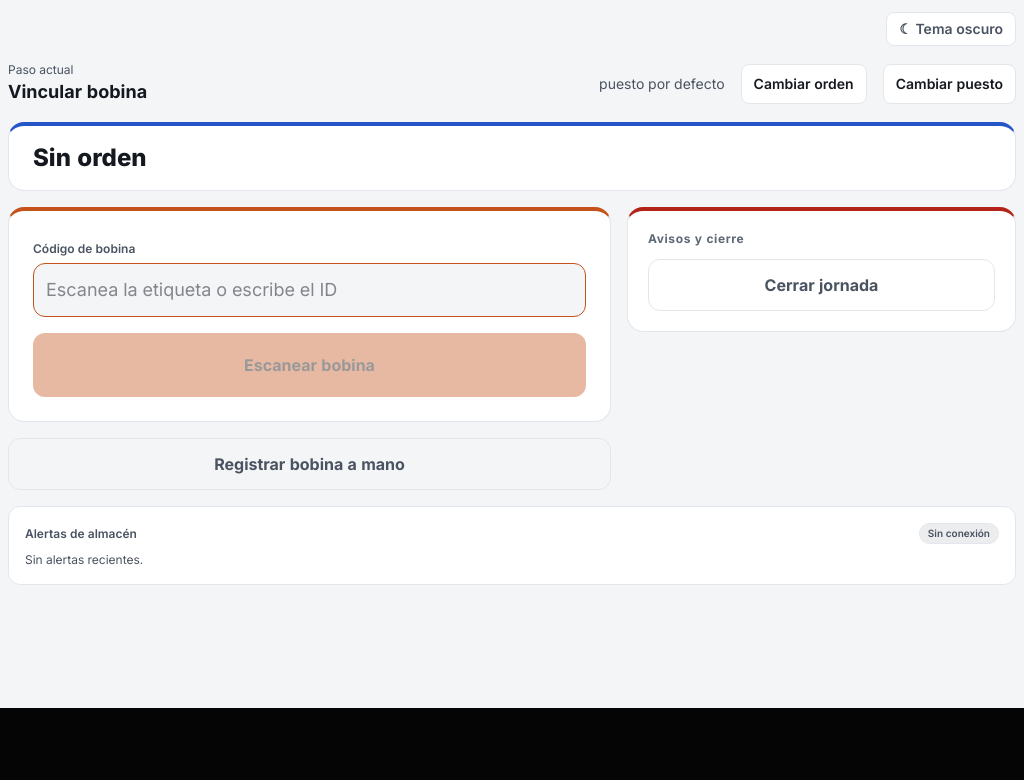
it: Panel de Operario (directriz no abrumar) › habilita el escaneo al escribir un código de bobina
This screenshot has width=1024, height=780.
Type "COIL-123" into the field with placeholder "Escanea la etiqueta o escribe el ID" at (310, 290), box [33,263,586,317]
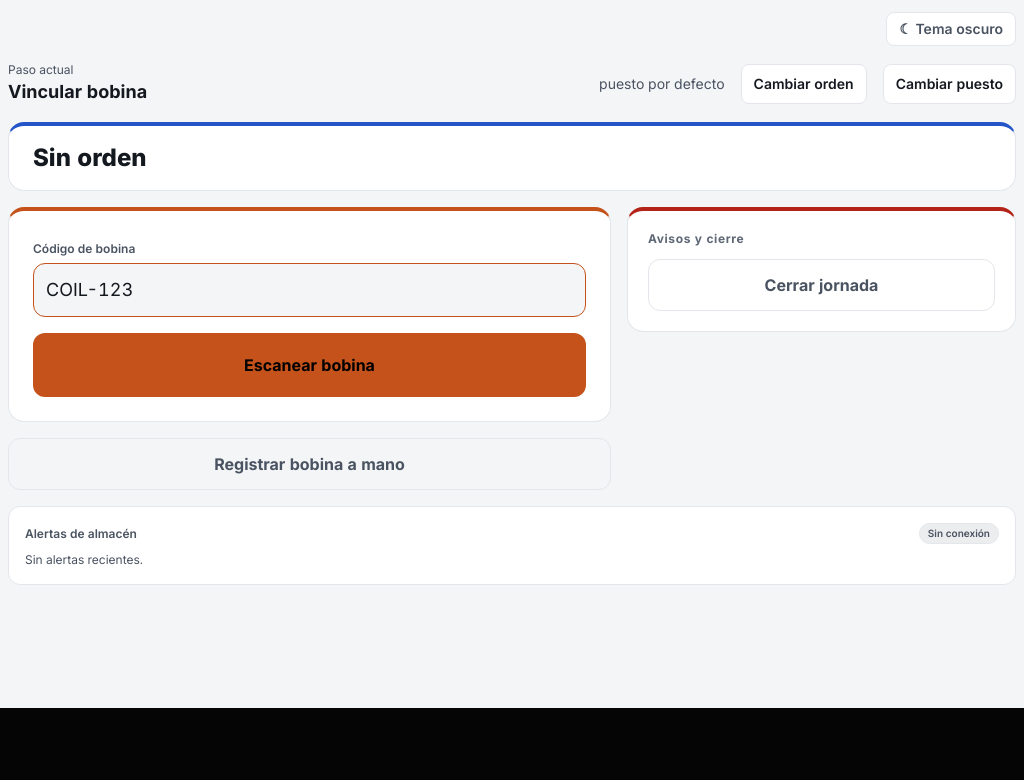
Expected: the button "Escanear bobina" is enabled, [33,333,586,397]
